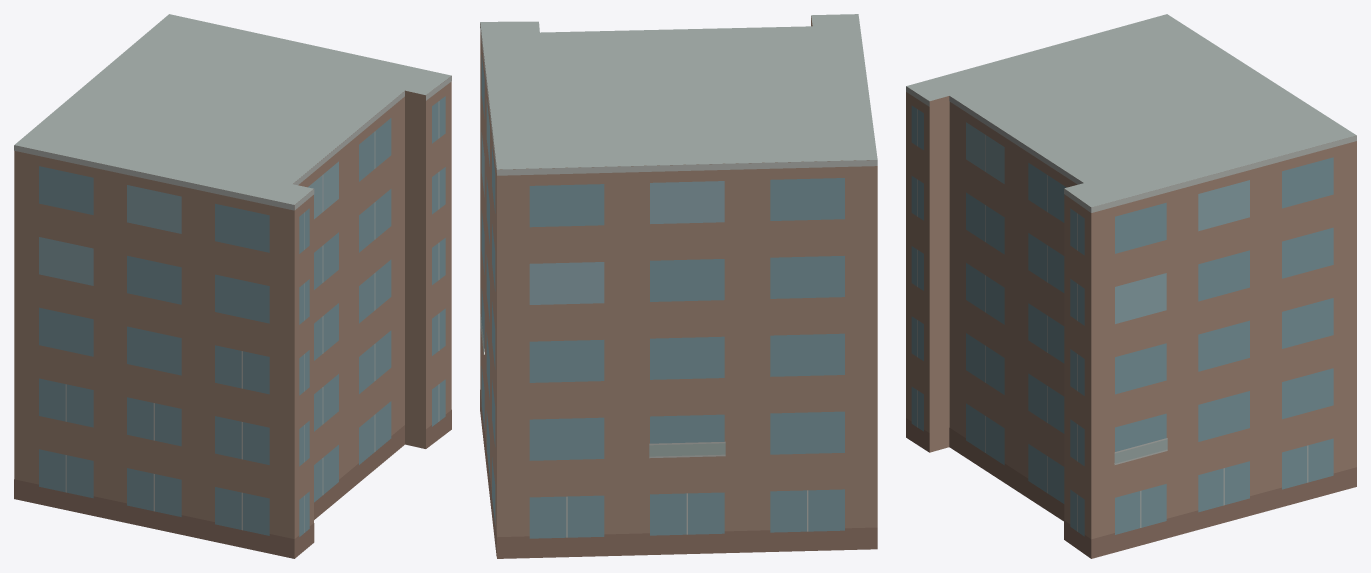
File: survey-upis-32590740.glb
3 views of the same model, side by side, from view 1: azimuth 30°, elevation 25°; view 2: azimuth 150°, elevation 25°; view 3: azimuth 270°, elevation 25° (orthographic). The views are drawn at different scales.
Parts seen in each view (by area): view 1: survey-upis-32590740.tmp; view 2: survey-upis-32590740.tmp; view 3: survey-upis-32590740.tmp.
Boxes of the visible parts, bbox=[...] form: survey-upis-32590740.tmp: bbox=[14, 14, 451, 558]; survey-upis-32590740.tmp: bbox=[480, 14, 877, 558]; survey-upis-32590740.tmp: bbox=[906, 14, 1356, 558].
Size of the model in its own units: 18.02 by 15.25 by 17.74.
